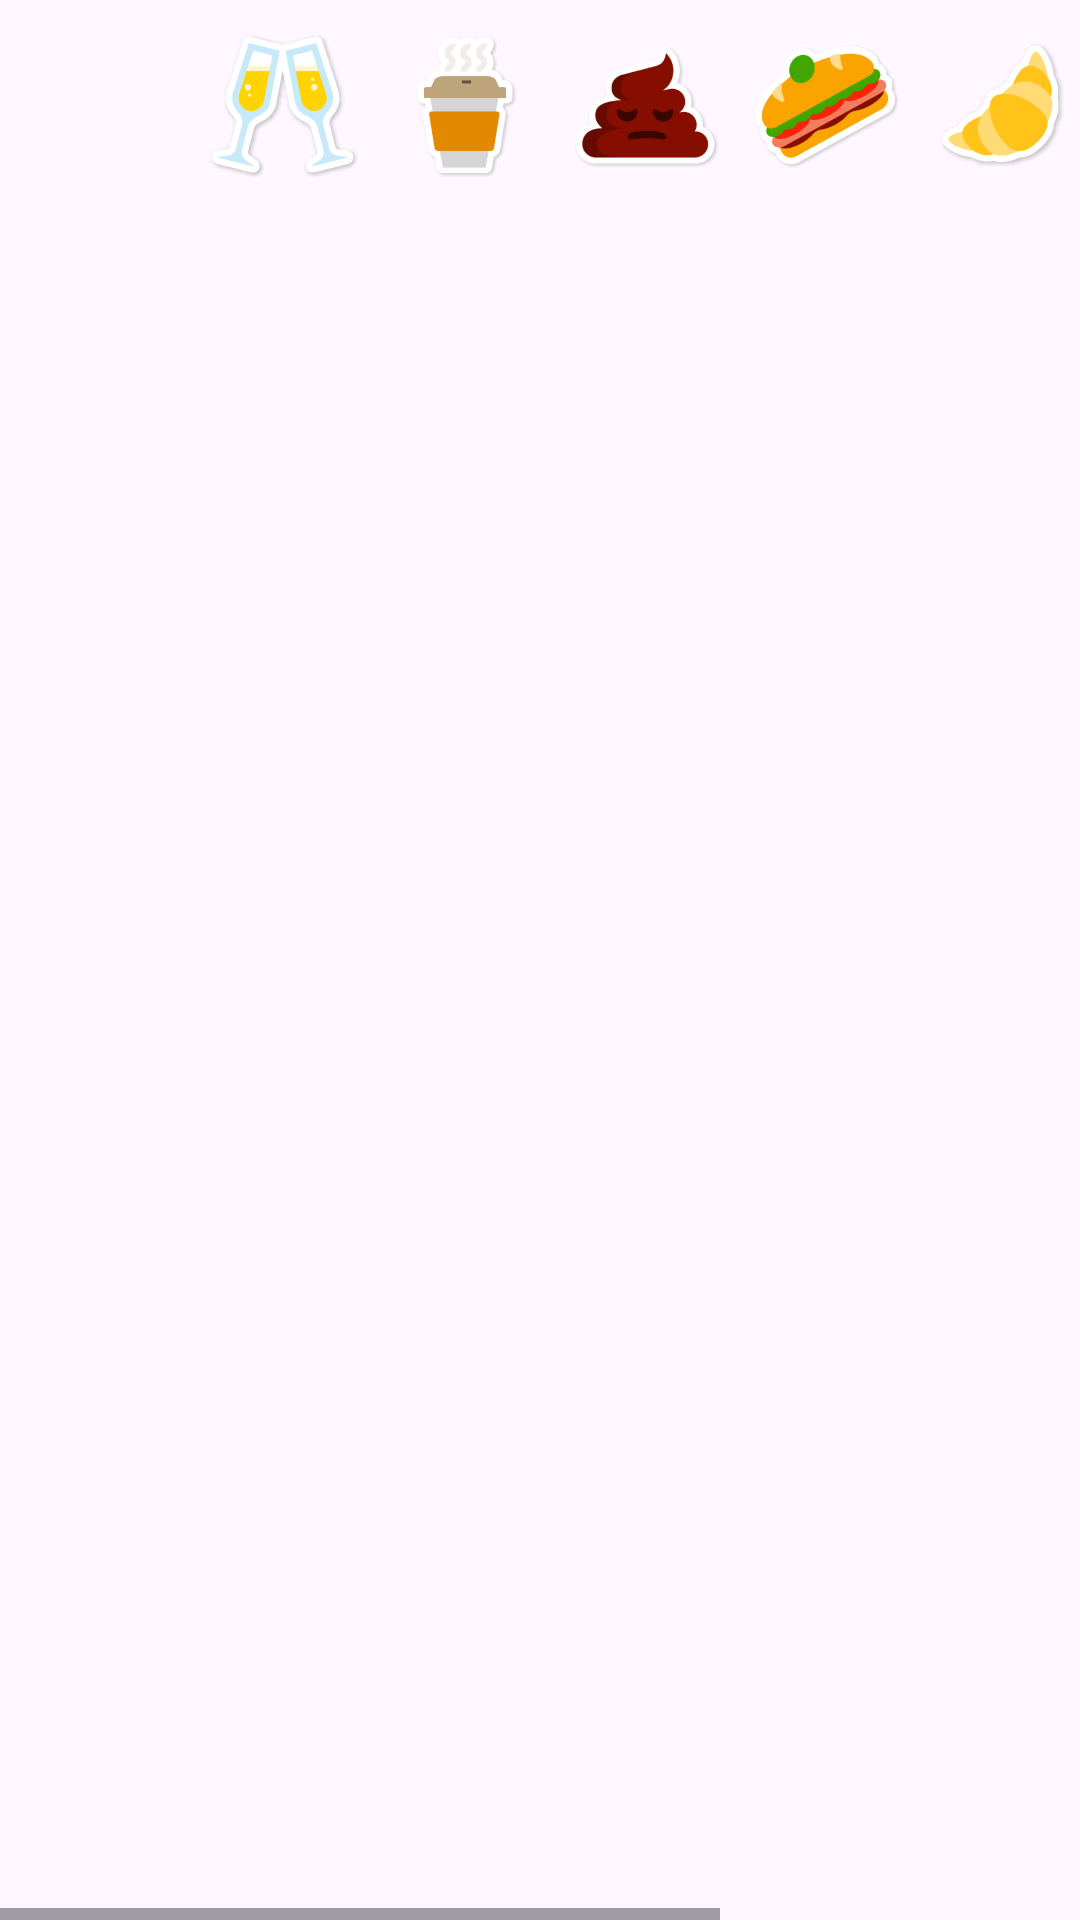

Screen size 1080 × 1920. Icon name, then its box in pixels as [left=x1, top=y1, right=x2, bottom=y2]:
champagne sticker: [left=215, top=38, right=355, bottom=175]
coffee sticker: [left=423, top=43, right=514, bottom=175]
croissant sticker: [left=945, top=47, right=1061, bottom=164]
poop sticker: [left=582, top=53, right=716, bottom=165]
sandwiche sticker: [left=761, top=53, right=897, bottom=166]
